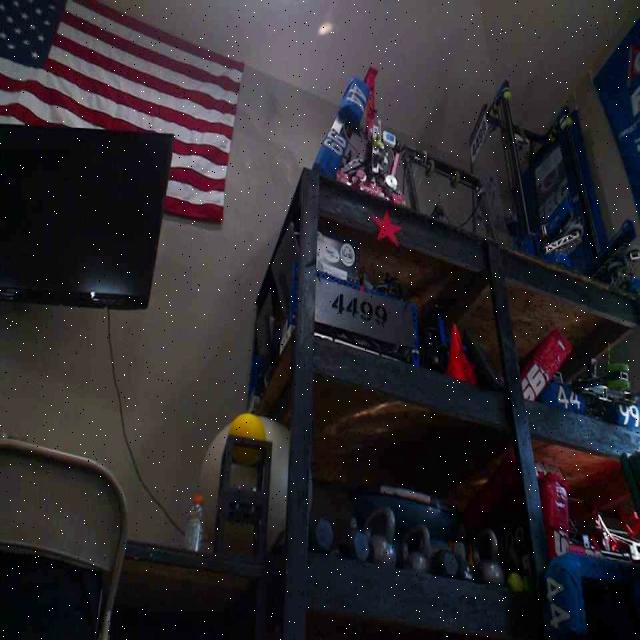star_red: (371, 212, 401, 242)
